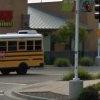Bus: (0, 27, 47, 77)
